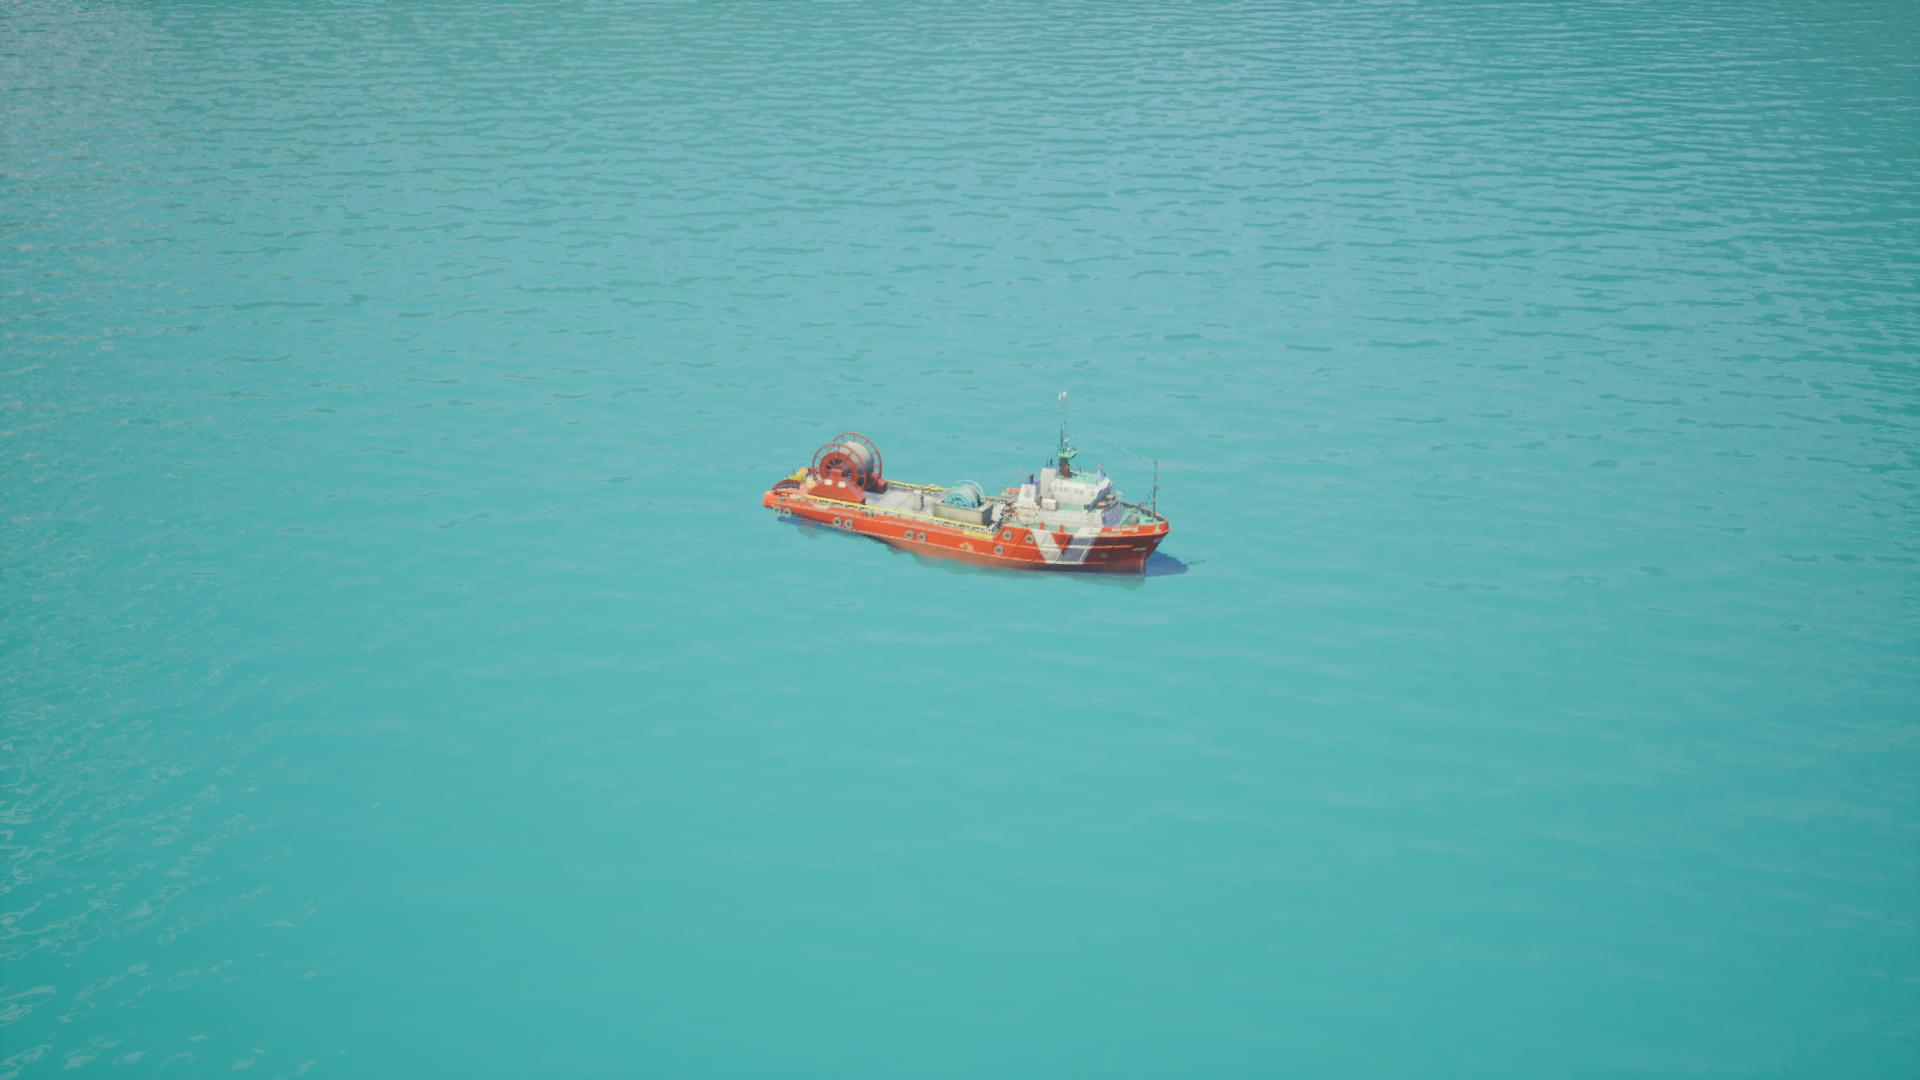Tug Boat: (763, 398, 1177, 577)
